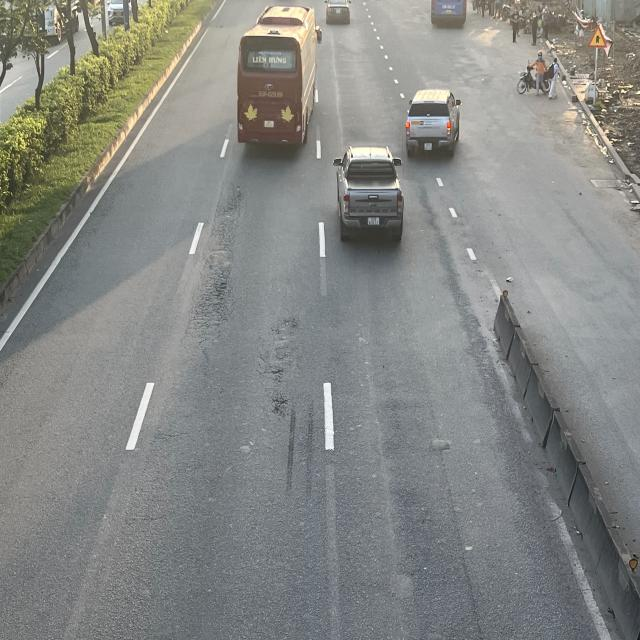car: (333, 148, 403, 248), (404, 88, 462, 155)
coach: (238, 6, 323, 149)
